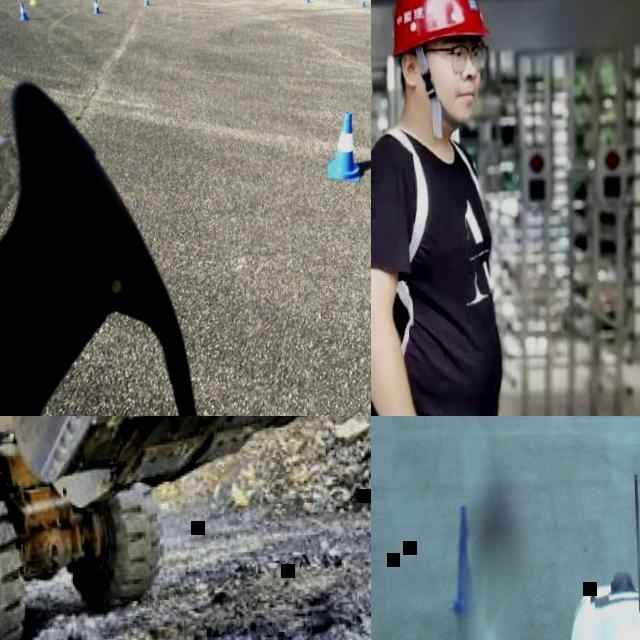Hardhat: (385, 0, 489, 46)
NO-Mask: (443, 84, 480, 123)
NO-Safety Vest: (371, 127, 504, 416)
Person: (371, 0, 508, 416)
Safety Cone: (445, 504, 480, 619), (325, 112, 359, 183), (18, 1, 30, 20), (92, 0, 101, 14), (359, 0, 365, 7), (28, 0, 36, 4), (143, 0, 149, 5), (304, 0, 310, 3)
machinery: (0, 416, 371, 640)
